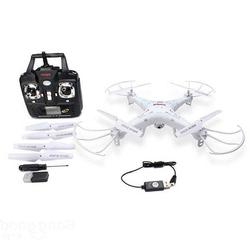drone: (73, 78, 246, 158)
